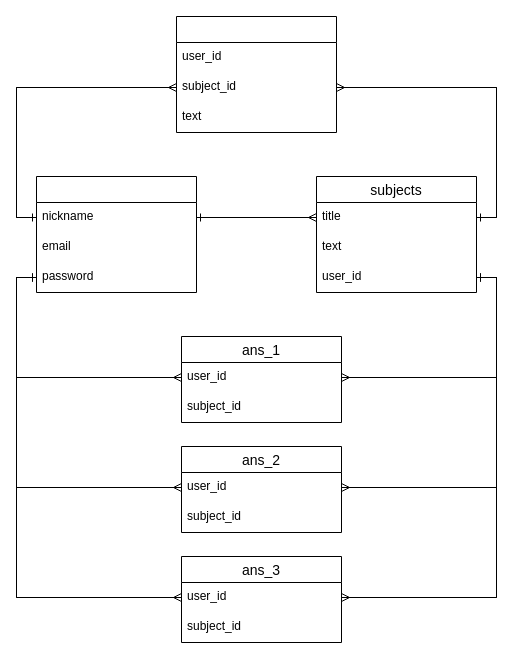
Some shapes in this 513 by 659 pixel diagram are drawn without their labels. The shapes that lost their labels are listed below. From the top down, each one's box as (x1, y1, x2, y2) in pixels, then its label:
(176, 16, 336, 132): comments
(36, 176, 196, 292): users
